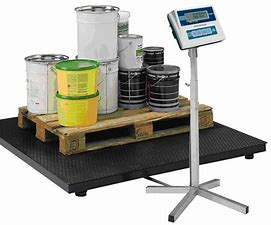Industrial Scale: (1, 5, 269, 225)
